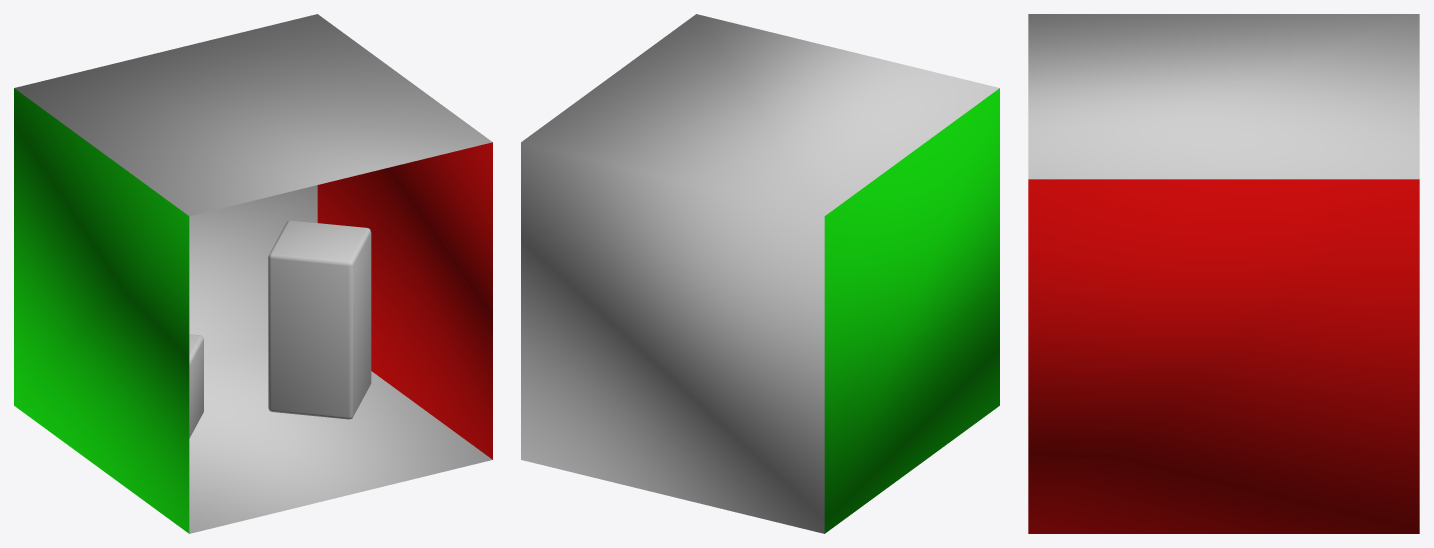
Rendered from CornellBox.obj.
3 renders of one model, left to right at view 1: azimuth 30°, elevation 25°; view 2: azimuth 150°, elevation 25°; view 3: azimuth 270°, elevation 25°, orthographic. The views are drawn at different scales.
Visible parts, largest first — view 1: Box, CubeTall, Cube; view 2: Box; view 3: Box.
Boxes of the visible parts, x1=… form: Box: x1=14, y1=14, x2=492, y2=533; CubeTall: x1=268, y1=220, x2=371, y2=419; Cube: x1=189, y1=334, x2=203, y2=438; Box: x1=521, y1=14, x2=999, y2=533; Box: x1=1028, y1=14, x2=1419, y2=533.
Bounding box in the file's own units: 4 × 4 × 4.
